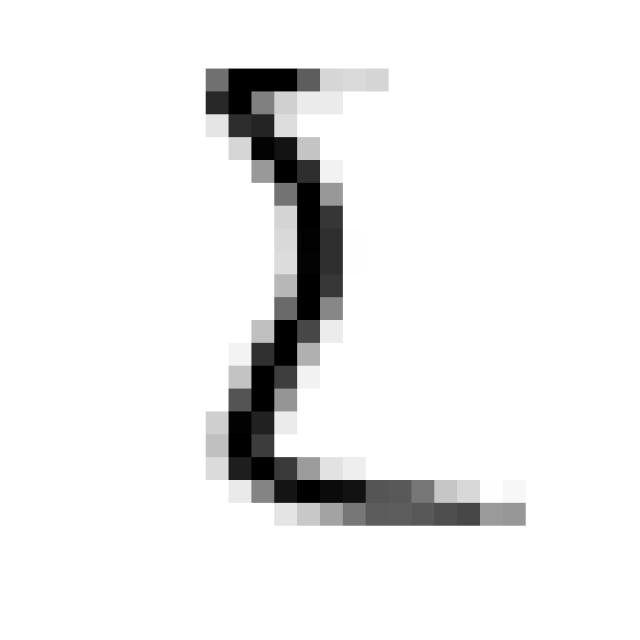4 -four-: (176, 30, 546, 546)
